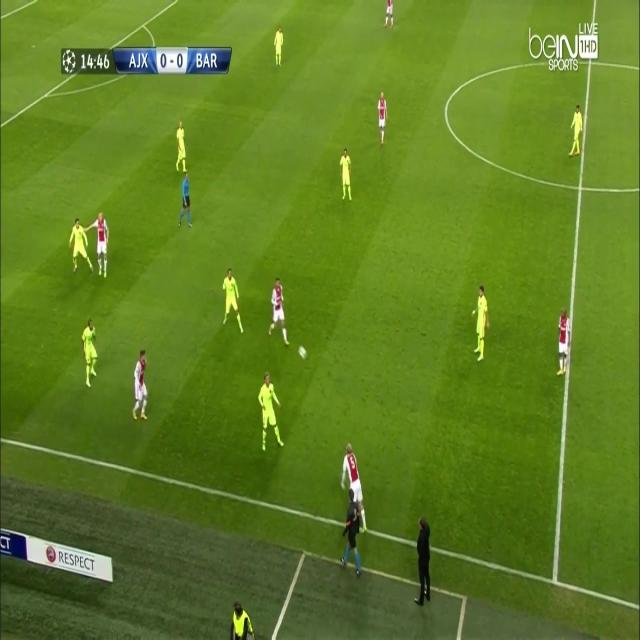Ball: (297, 343, 308, 361)
Player: (339, 440, 367, 533), (254, 372, 285, 453), (86, 210, 110, 282), (267, 276, 291, 348), (471, 283, 492, 364), (66, 218, 95, 276), (222, 266, 244, 338), (131, 346, 150, 424), (80, 317, 100, 390), (554, 307, 572, 380), (568, 102, 585, 160), (339, 146, 355, 203), (375, 87, 390, 147), (174, 120, 188, 174), (273, 23, 285, 71), (382, 0, 398, 32)
Referee: (177, 171, 193, 230)
